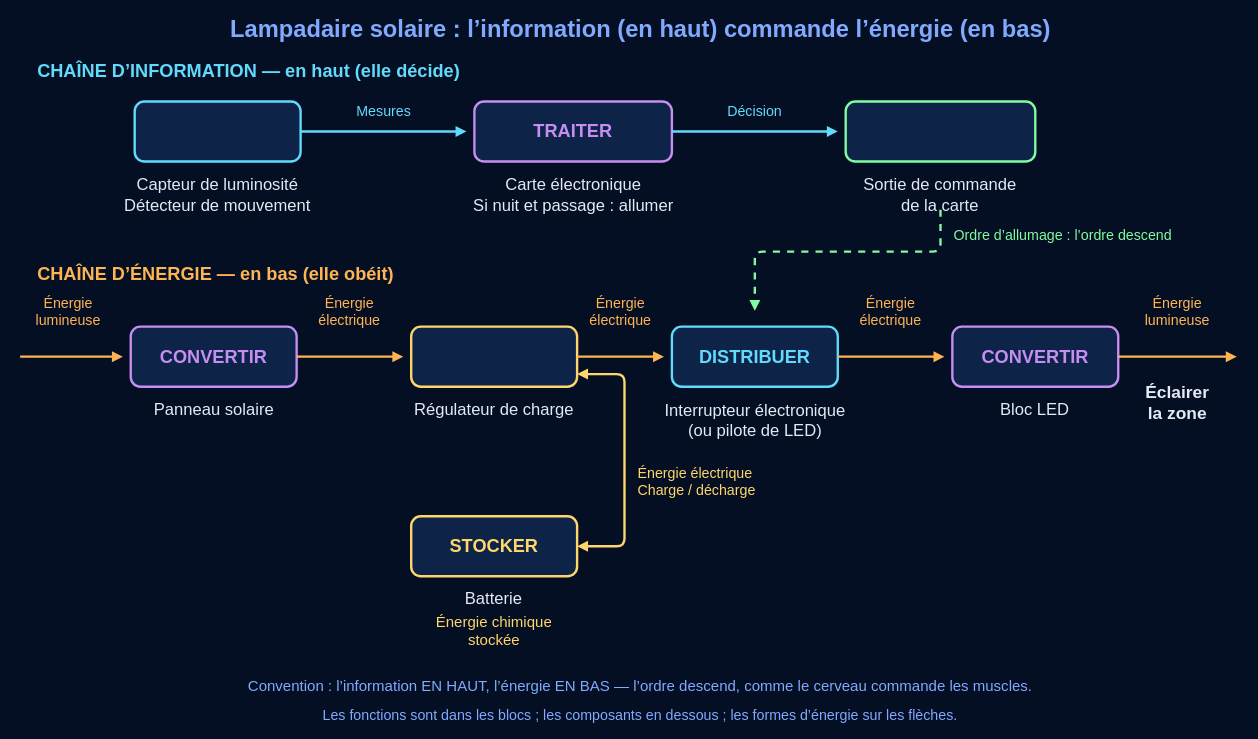
The diagram is 1258 pixels wide and 739 high, and some of its shapes have lost their labels. Each missing label, with the centre of its shape:
"ACQUÉRIR" belongs at point (217, 131).
"ALIMENTER" belongs at point (494, 356).
"COMMUNIQUER" belongs at point (940, 131).
